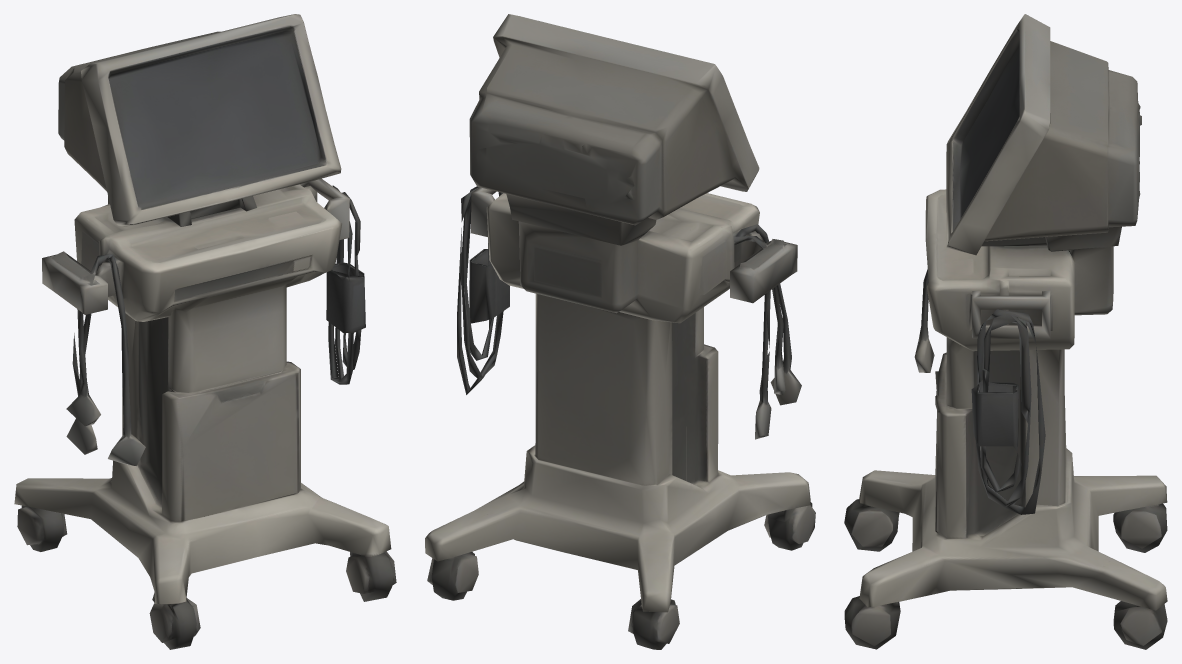
File: ENV_ALL_093_v001_RAW.glb (1).glb
The picture shows the model from 3 angles, left to right: view 1: azimuth 30°, elevation 25°; view 2: azimuth 150°, elevation 25°; view 3: azimuth 270°, elevation 25°; orthographic projection. The views are drawn at different scales.
Visible parts, largest first — view 1: tripo_node_ce608eda-a339-4a80-beff-aa7a077386a3; view 2: tripo_node_ce608eda-a339-4a80-beff-aa7a077386a3; view 3: tripo_node_ce608eda-a339-4a80-beff-aa7a077386a3.
Part boxes in pixels (x1,y1,x2,y2): tripo_node_ce608eda-a339-4a80-beff-aa7a077386a3: [14, 14, 396, 649]; tripo_node_ce608eda-a339-4a80-beff-aa7a077386a3: [425, 14, 815, 649]; tripo_node_ce608eda-a339-4a80-beff-aa7a077386a3: [844, 14, 1167, 649].
Size of the model in its own units: 0.5749 by 0.9825 by 0.5372.
Materials: 1 (1 with a texture image).
